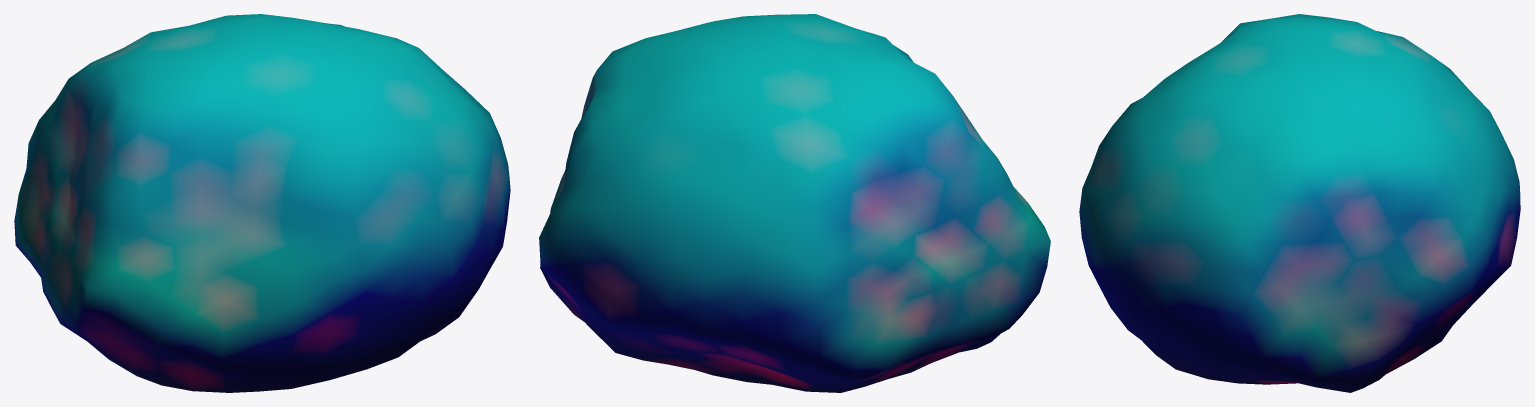
File: RockAngular_3_lod0.glb
The picture shows the model from 3 angles, left to right: view 1: azimuth 30°, elevation 25°; view 2: azimuth 150°, elevation 25°; view 3: azimuth 270°, elevation 25°; orthographic projection. The views are drawn at different scales.
Parts seen in each view (by area): view 1: RockAngular_3_lod0; view 2: RockAngular_3_lod0; view 3: RockAngular_3_lod0.
Boxes of the visible parts, left/top/right/bottom form: RockAngular_3_lod0: left=14, top=14, right=510, bottom=392; RockAngular_3_lod0: left=539, top=14, right=1050, bottom=392; RockAngular_3_lod0: left=1079, top=14, right=1520, bottom=392.
Bounding box in the file's own units: 2.18 × 1.36 × 2.02.
